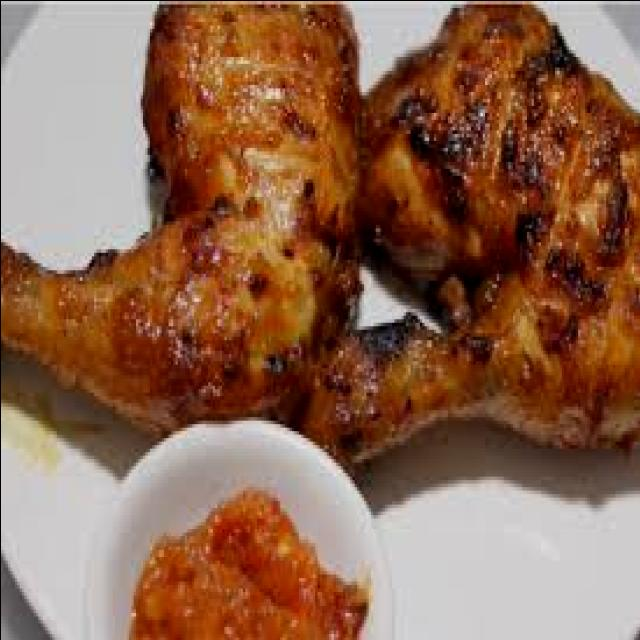ayam bakar: (195, 3, 640, 476), (0, 0, 382, 451)
